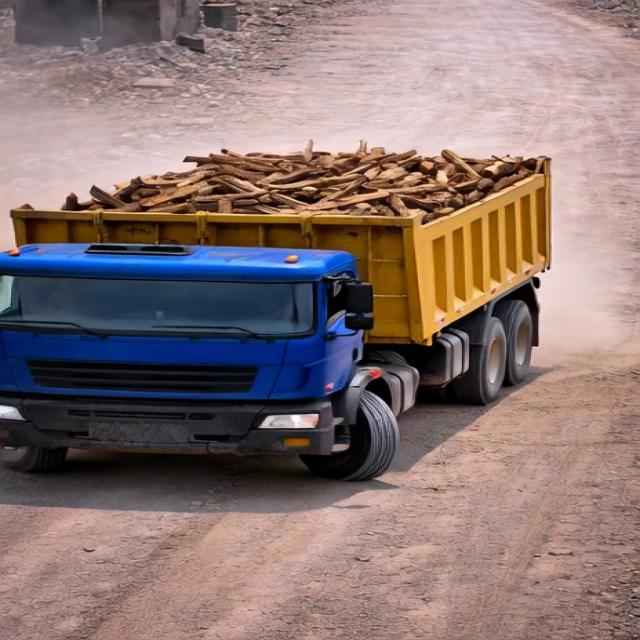trailer: (8, 140, 566, 232)
truck: (4, 134, 579, 486)
